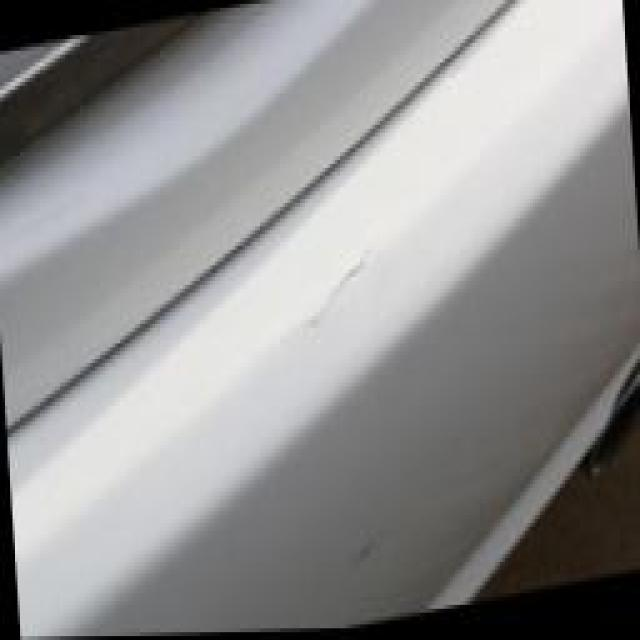Bumper: (235, 195, 440, 634)
